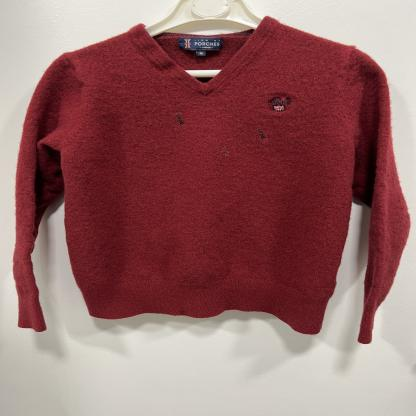stain: (173, 108, 186, 127), (254, 127, 268, 141), (219, 145, 230, 158)
